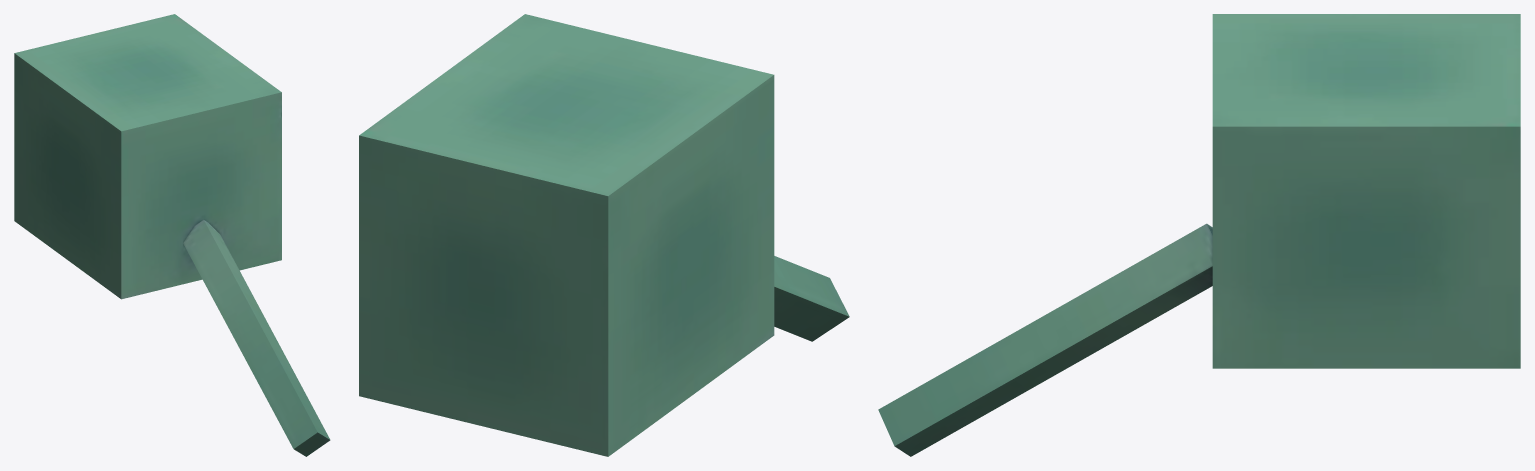
Rendered from life-tool-can.glb.
The picture shows the model from 3 angles, left to right: view 1: azimuth 30°, elevation 25°; view 2: azimuth 150°, elevation 25°; view 3: azimuth 270°, elevation 25°; orthographic projection. The views are drawn at different scales.
Visible parts, largest first — view 1: life-tool-can; view 2: life-tool-can; view 3: life-tool-can.
Boxes of the visible parts, bbox=[...] form: life-tool-can: bbox=[14, 14, 330, 456]; life-tool-can: bbox=[359, 14, 849, 456]; life-tool-can: bbox=[878, 14, 1520, 456].
Size of the model in its own units: 0.026 by 0.0415 by 0.0626.
1 material, 1 textured.
